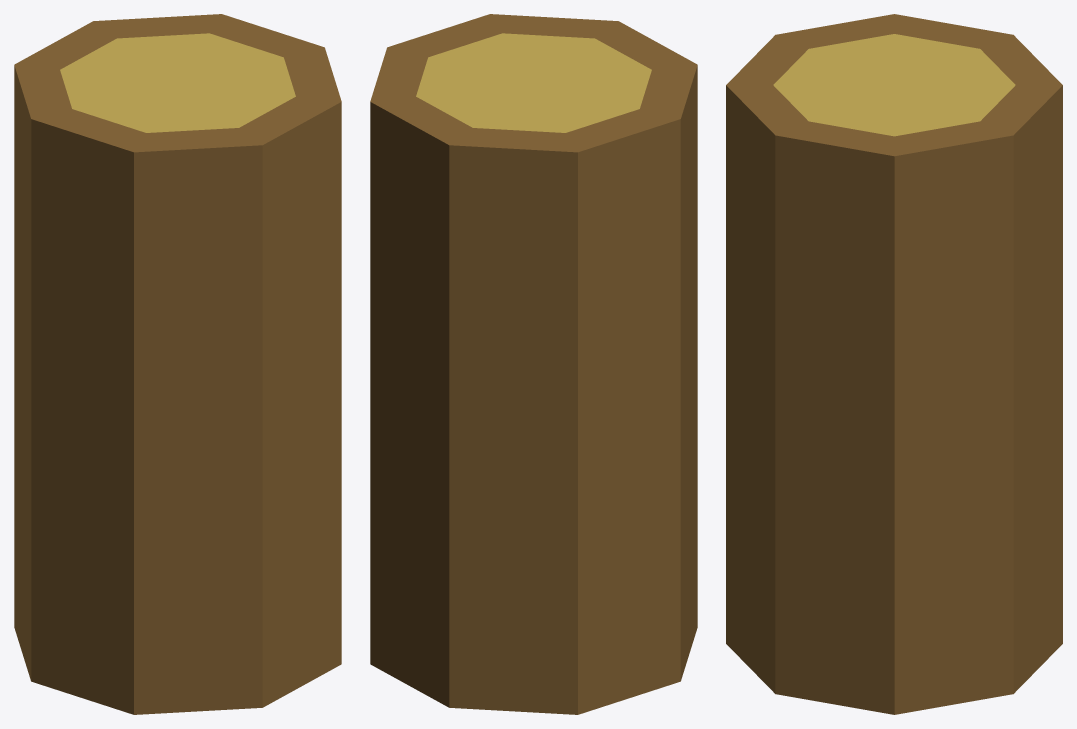
File: BarTree2.fbx
The picture shows the model from 3 angles, left to right: view 1: azimuth 30°, elevation 25°; view 2: azimuth 150°, elevation 25°; view 3: azimuth 270°, elevation 25°; orthographic projection.
Visible parts, largest first — view 1: BarTree2; view 2: BarTree2; view 3: BarTree2.
Part boxes in pixels (x1,y1,x2,y2): BarTree2: [14, 14, 341, 714]; BarTree2: [370, 14, 697, 714]; BarTree2: [726, 14, 1062, 714].
Size of the model in its own units: 19.87 by 36.38 by 19.87.
